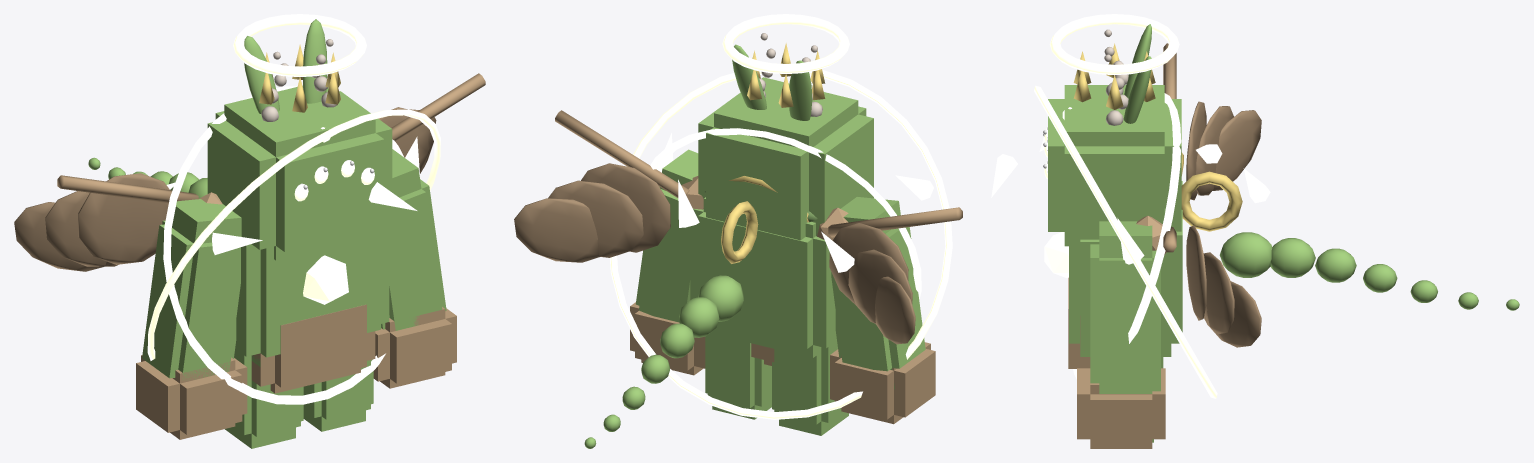
Rendered from forest_totem_11.glb.
The picture shows the model from 3 angles, left to right: view 1: azimuth 30°, elevation 25°; view 2: azimuth 150°, elevation 25°; view 3: azimuth 270°, elevation 25°; orthographic projection. The views are drawn at different scales.
Parts seen in each view (by area): view 1: box; view 2: box; view 3: box.
Part boxes in pixels (x1,y1,x2,y2): box: [14, 14, 485, 448]; box: [514, 14, 962, 448]; box: [991, 14, 1519, 448].
Bounding box in the file's own units: 2.15 × 1.87 × 2.39.
